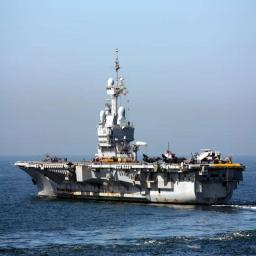Portanaves: (13, 44, 248, 211)
